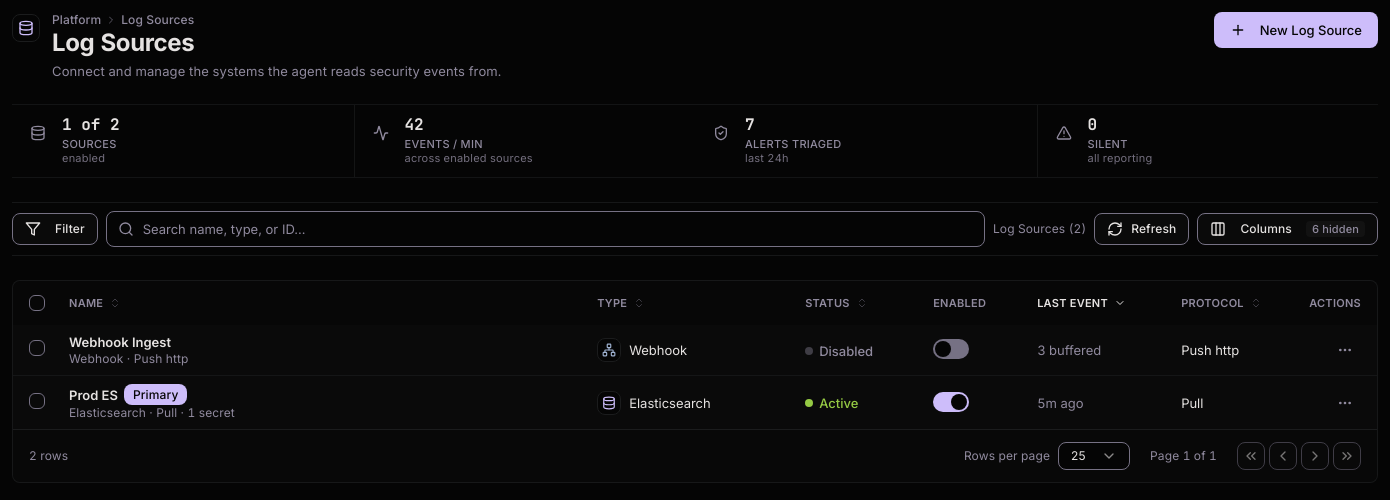
Log Sources page (WS-C) › filters the list client-side via the toolbar search
Expected: the button "Webhook Ingest" is shown, top-left (69, 333), bottom-right (171, 351)
Type "Prod" into the field named "Search log sources" at (545, 229), box top-left (106, 211), bottom-right (985, 247)
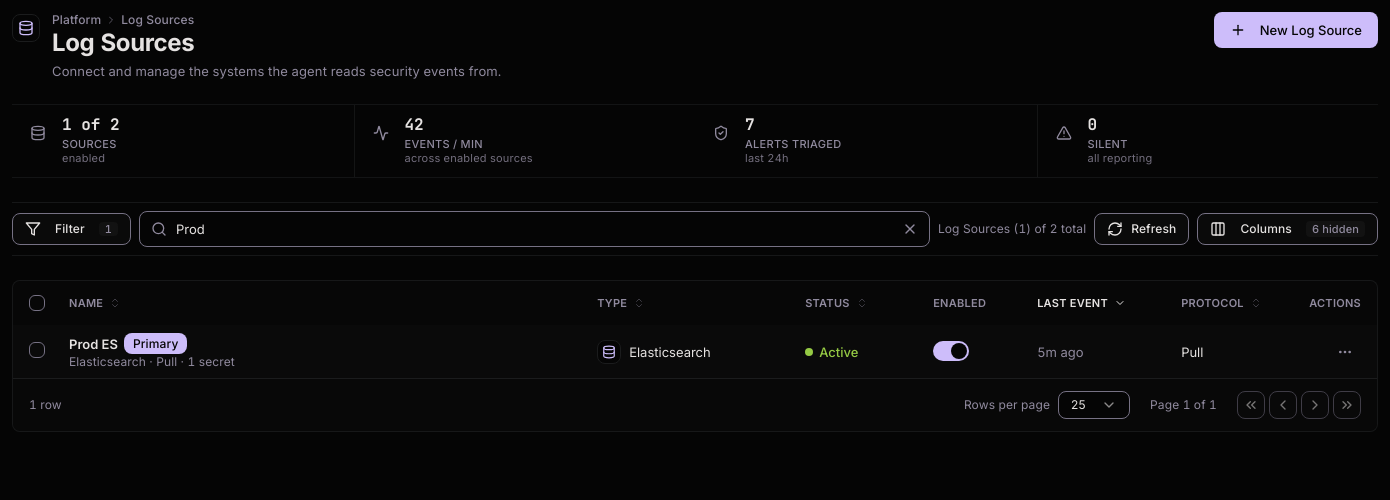
Expected: the button "Prod ES" is shown, top-left (69, 334), bottom-right (118, 352)
Expected: the button "Webhook Ingest" is gone
Expected: the text with test id "sources-count" shows "(1)", top-left (938, 221), bottom-right (1086, 236)
Click the button named "Clear search" at (910, 229), box top-left (898, 217), bottom-right (922, 241)
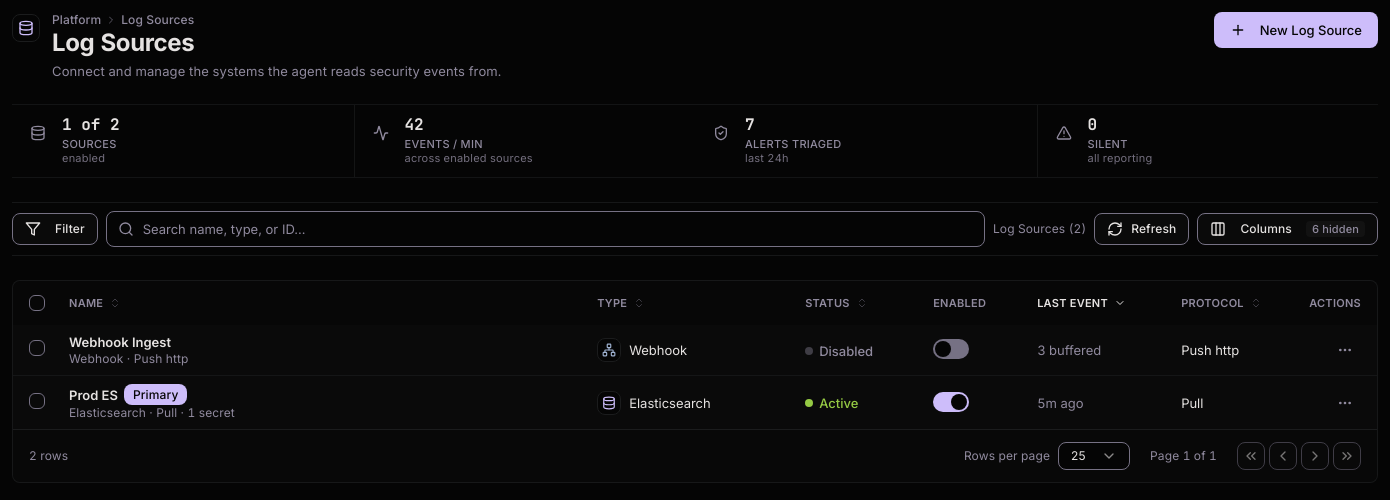
Expected: the field named "Search log sources" is empty, top-left (106, 211), bottom-right (985, 247)
Expected: the button "Webhook Ingest" is shown, top-left (69, 333), bottom-right (171, 351)
